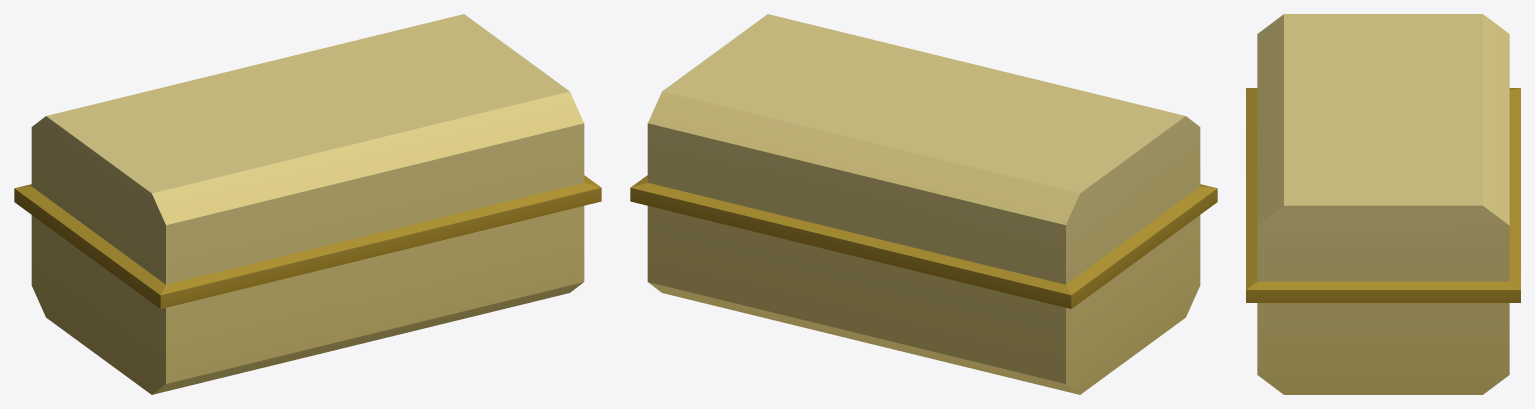
The model's file is SM_MarketBoxes_06.fbx.
3 views of the same model, side by side, from view 1: azimuth 30°, elevation 25°; view 2: azimuth 150°, elevation 25°; view 3: azimuth 270°, elevation 25° (orthographic). The views are drawn at different scales.
Parts seen in each view (by area): view 1: Cube.060; view 2: Cube.060; view 3: Cube.060.
Boxes of the visible parts, x1,y1,x2,y2 form: Cube.060: (14,14,601,394); Cube.060: (630,14,1217,394); Cube.060: (1246,14,1520,394).
Bounding box in the file's own units: 113 × 49.26 × 64.77.
